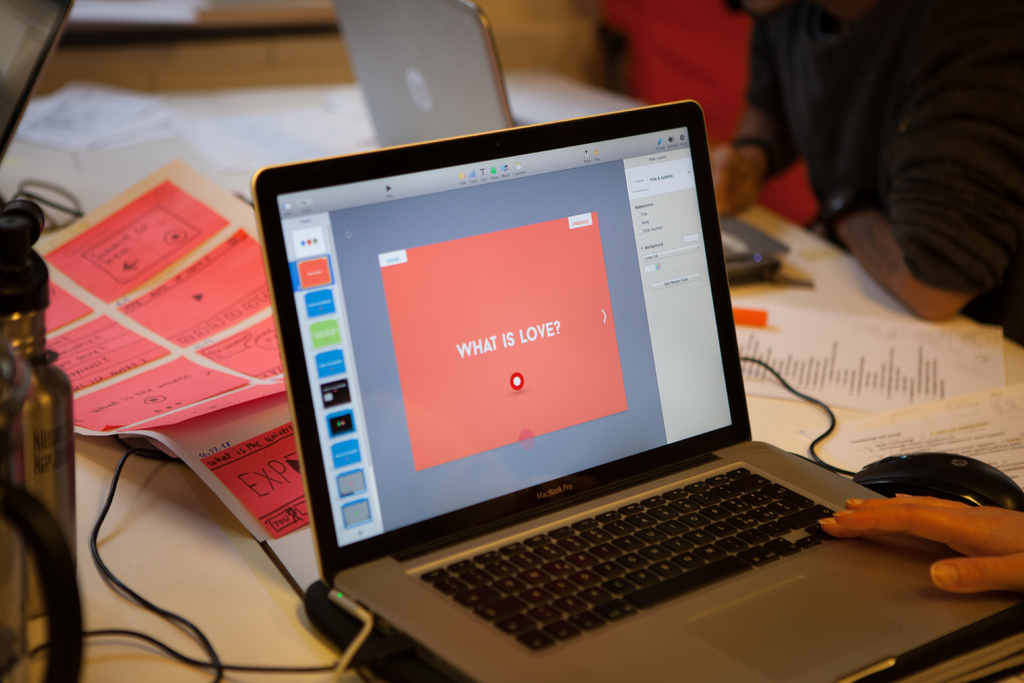Laptop: (248, 93, 1016, 682), (331, 0, 786, 291), (3, 0, 72, 169)
